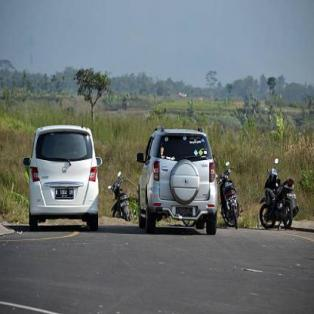Motocicleta: (257, 154, 299, 239), (214, 154, 244, 238), (104, 167, 137, 227)
